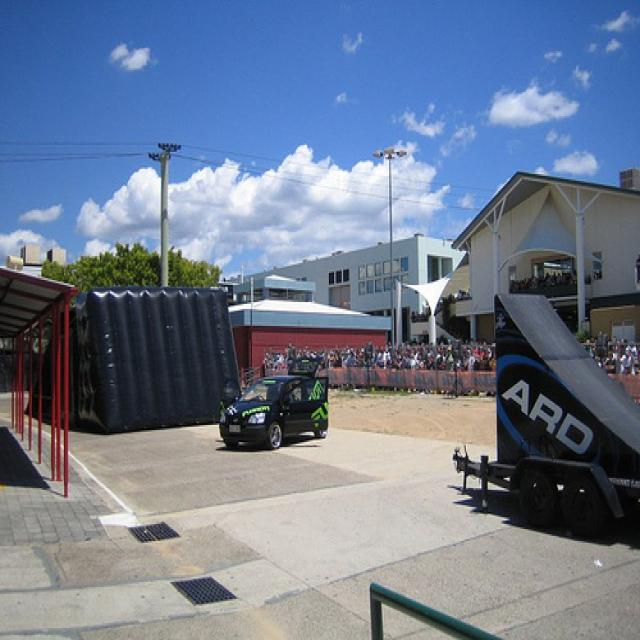car: (216, 368, 330, 453)
